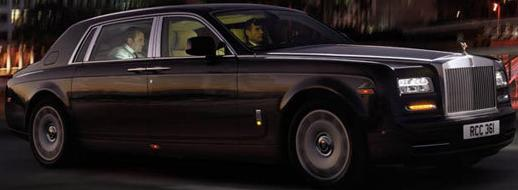front_view: (388, 62, 512, 160)
headlight: (386, 66, 441, 97)
side_glass: (78, 20, 236, 62)
